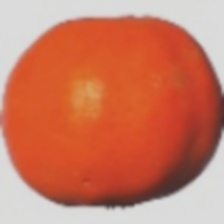tangerine: (36, 51, 204, 198)
